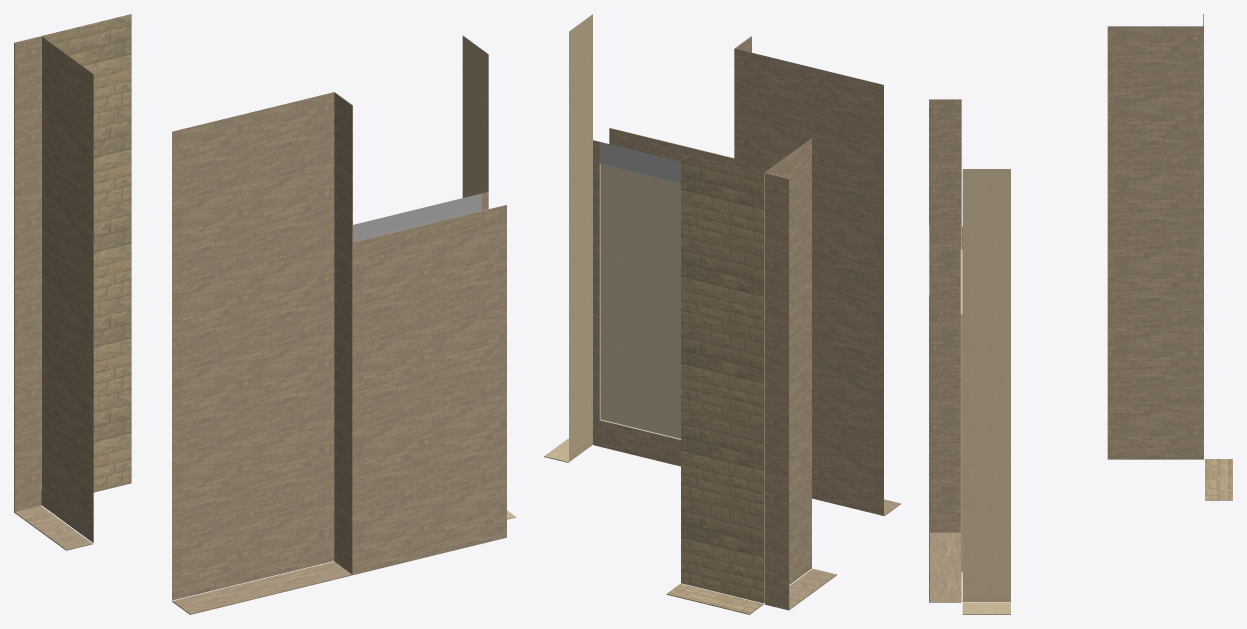
The model's file is unit-link-north-east.glb.
3 renders of one model, left to right at view 1: azimuth 30°, elevation 25°; view 2: azimuth 150°, elevation 25°; view 3: azimuth 270°, elevation 25°, orthographic. The views are drawn at different scales.
Visible parts, largest first — view 1: bz06_service_stone-cast, bz06_dressed_sandstone-cast, bz06_cream_plaster-cast, ph_bz04_stone_trim_sandstone-cast; view 2: bz06_service_stone-cast, bz06_dressed_sandstone-cast, bz06_pale_lime-cast, bz06_cream_plaster-cast, ph_bz04_stone_trim_sandstone-cast; view 3: bz06_service_stone-cast, bz06_cream_plaster-cast, bz06_dressed_sandstone-cast, bz06_pale_lime-cast.
Boxes of the visible parts, <box> form: bz06_service_stone-cast: <box>14,36,506,614</box>; bz06_dressed_sandstone-cast: <box>41,14,131,504</box>; bz06_cream_plaster-cast: <box>462,35,515,519</box>; ph_bz04_stone_trim_sandstone-cast: <box>353,193,481,241</box>; bz06_service_stone-cast: <box>593,36,900,610</box>; bz06_dressed_sandstone-cast: <box>666,152,763,614</box>; bz06_pale_lime-cast: <box>599,163,680,439</box>; bz06_cream_plaster-cast: <box>544,14,592,462</box>; ph_bz04_stone_trim_sandstone-cast: <box>599,142,680,183</box>; bz06_service_stone-cast: <box>929,14,1203,602</box>; bz06_cream_plaster-cast: <box>962,169,1010,614</box>; bz06_dressed_sandstone-cast: <box>1205,459,1232,500</box>; bz06_pale_lime-cast: <box>960,249,962,572</box>.
Bounding box in the file's own units: 8.2 × 9.92 × 6.3.
5 materials, 4 textured.
